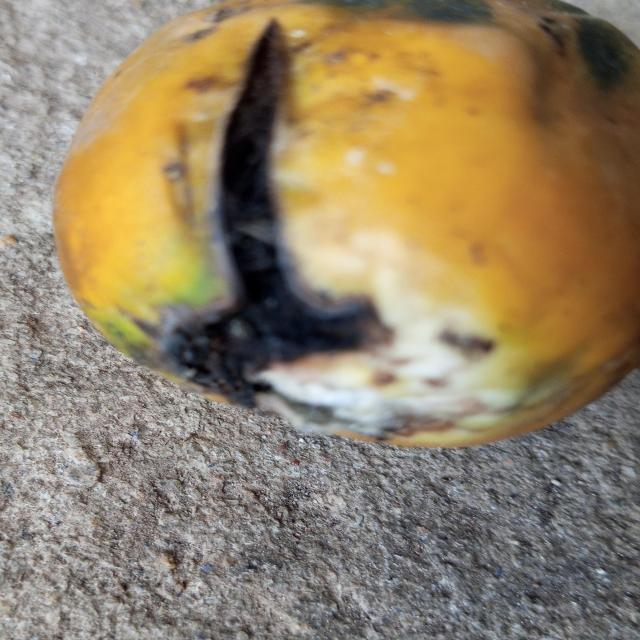damaged: (54, 0, 640, 446)
